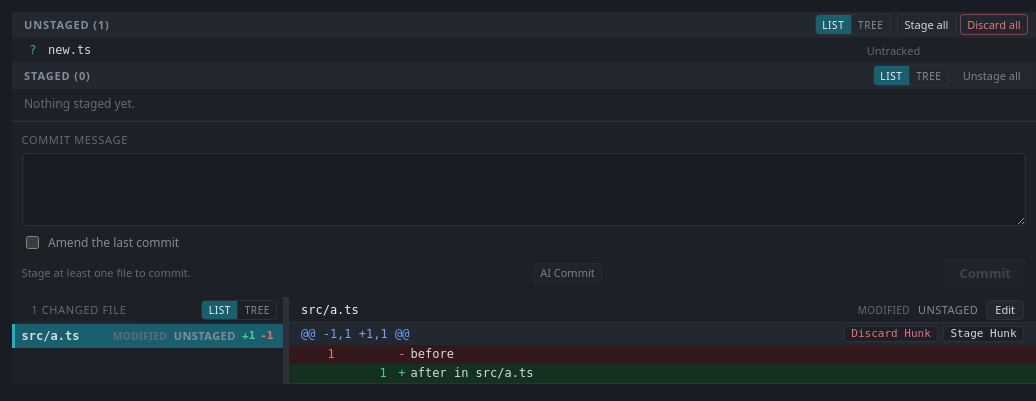
Scenario: an untracked file › shows the file from disk, every line added, not "wrong selection"
The image size is (1036, 401).
What coordinates should you click on to do the following:
click the button "new.ts"
I would click on:
 (70, 50)
Its box is [48,43,860,57].
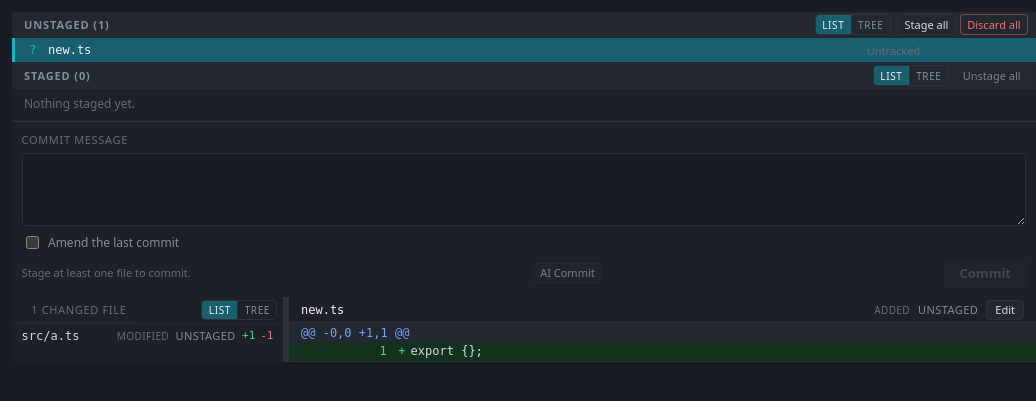
Check: the element "new.ts" shows "export {};", box [411,344,483,358]
